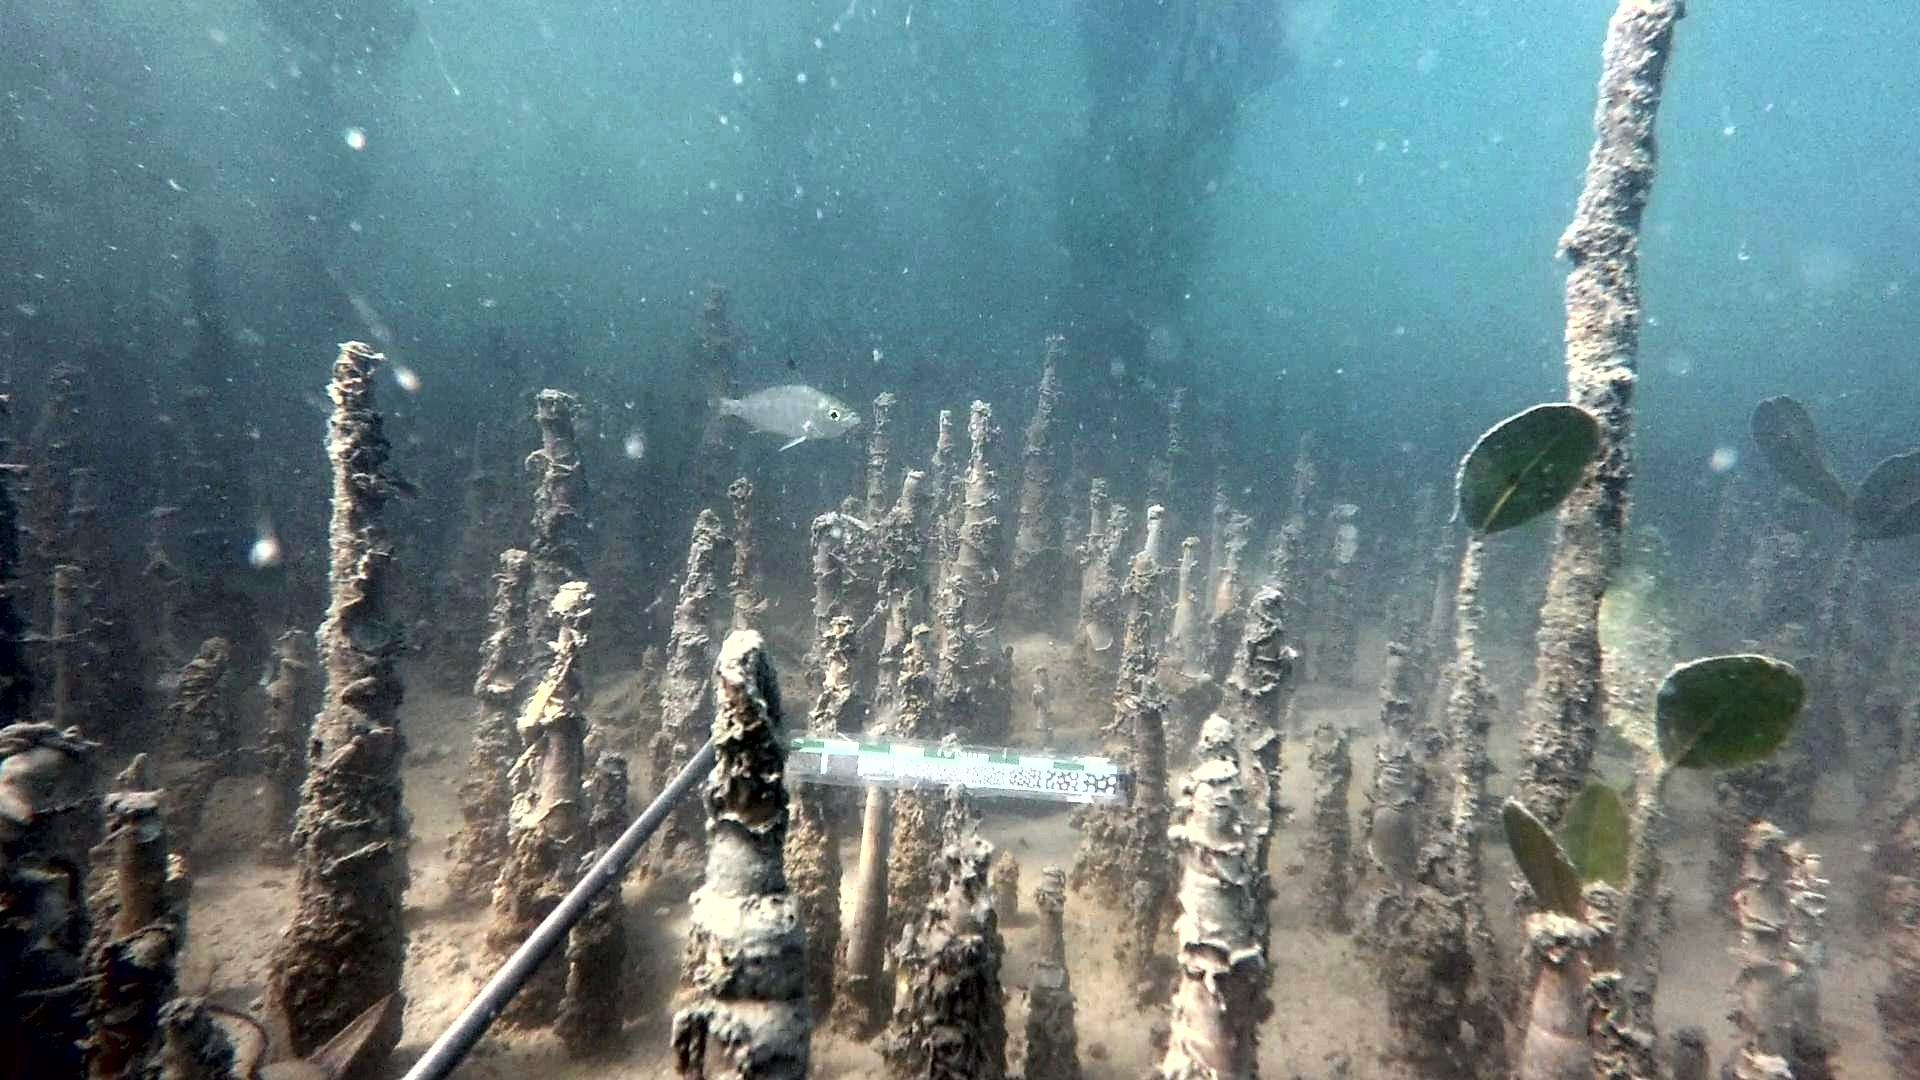gerres: (691, 357, 861, 451)
